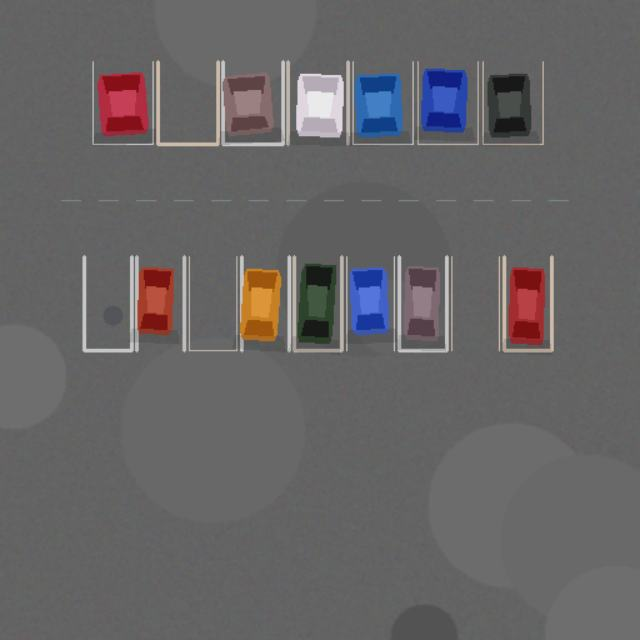space-empty: (158, 61, 218, 144), (451, 256, 499, 350), (84, 256, 131, 350), (189, 256, 236, 350)
space-occupied: (92, 61, 152, 144), (222, 61, 282, 144), (288, 61, 348, 144), (352, 61, 412, 144), (418, 61, 478, 144), (482, 61, 542, 144), (136, 256, 184, 350), (241, 256, 289, 350), (346, 256, 394, 350), (294, 256, 341, 350), (399, 256, 446, 350), (504, 256, 551, 350)
